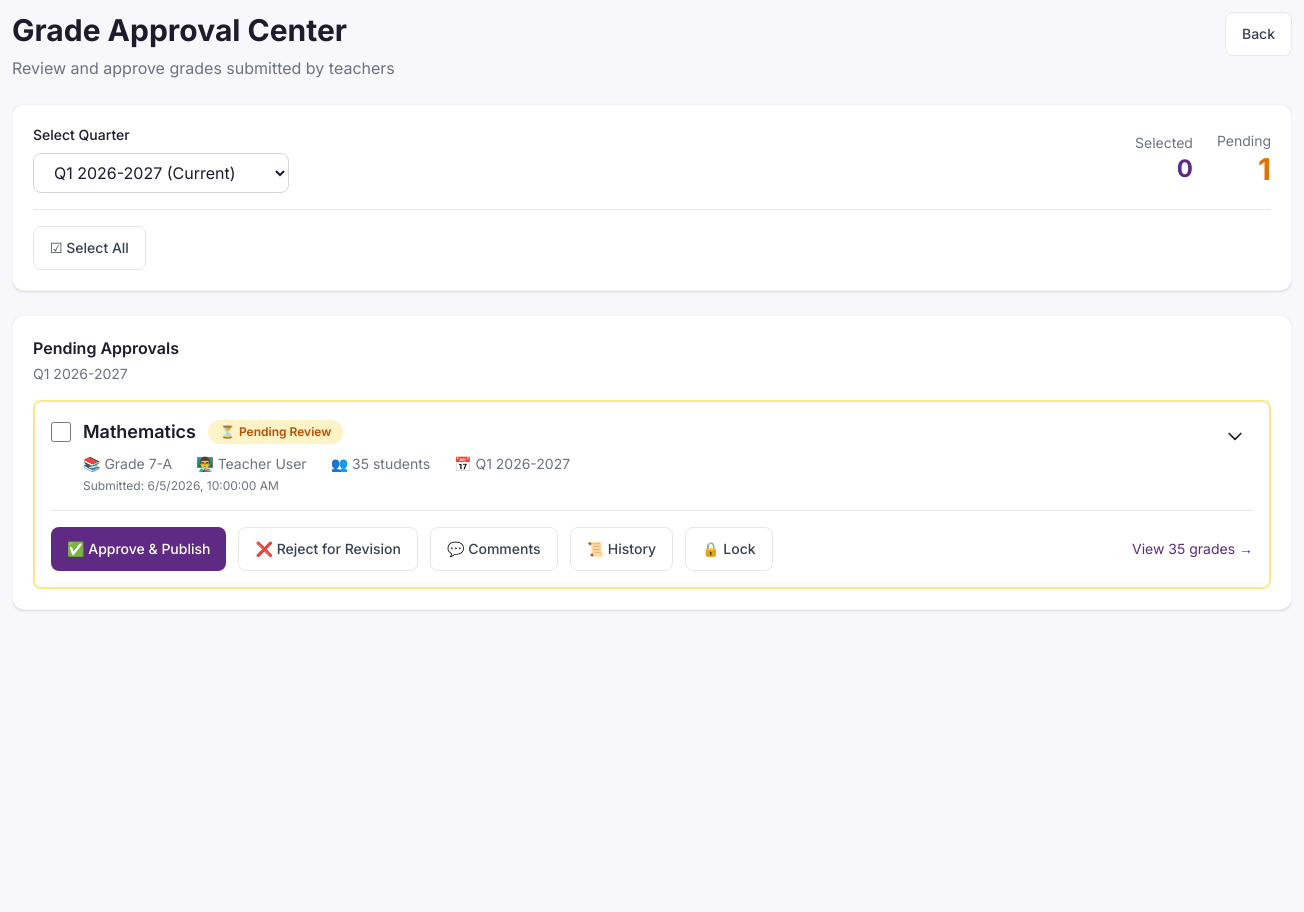
Test: Grade Approval Workflow Integration › completes full approval workflow
expect the heading "Mathematics" is shown: met, box [83, 418, 196, 446]
Click approve button
Click the button "✅ Approve & Publish". click: (139, 549)
box: [51, 527, 226, 571]
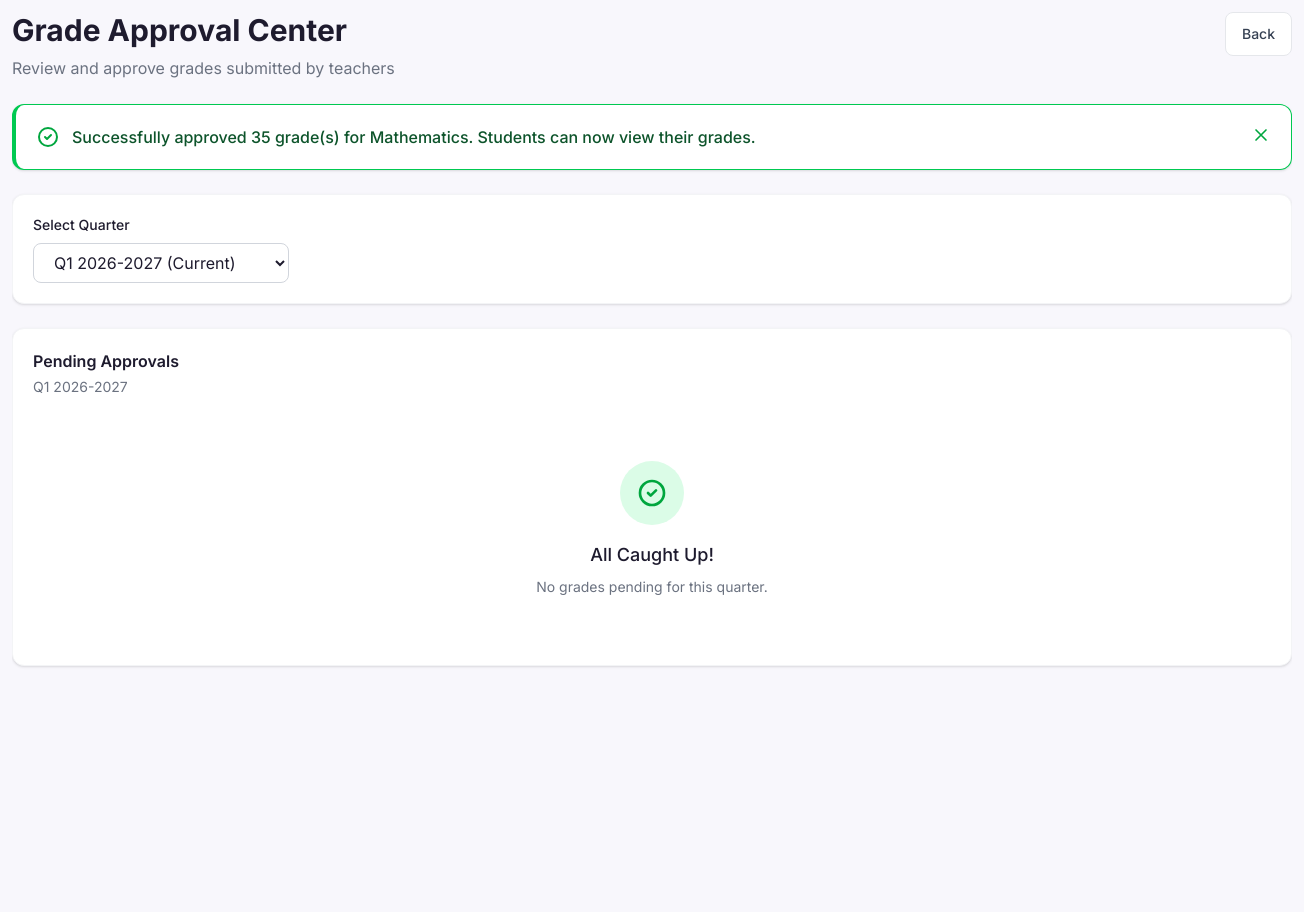
expect the text "Successfully approved" is shown: met, box [72, 127, 756, 147]
